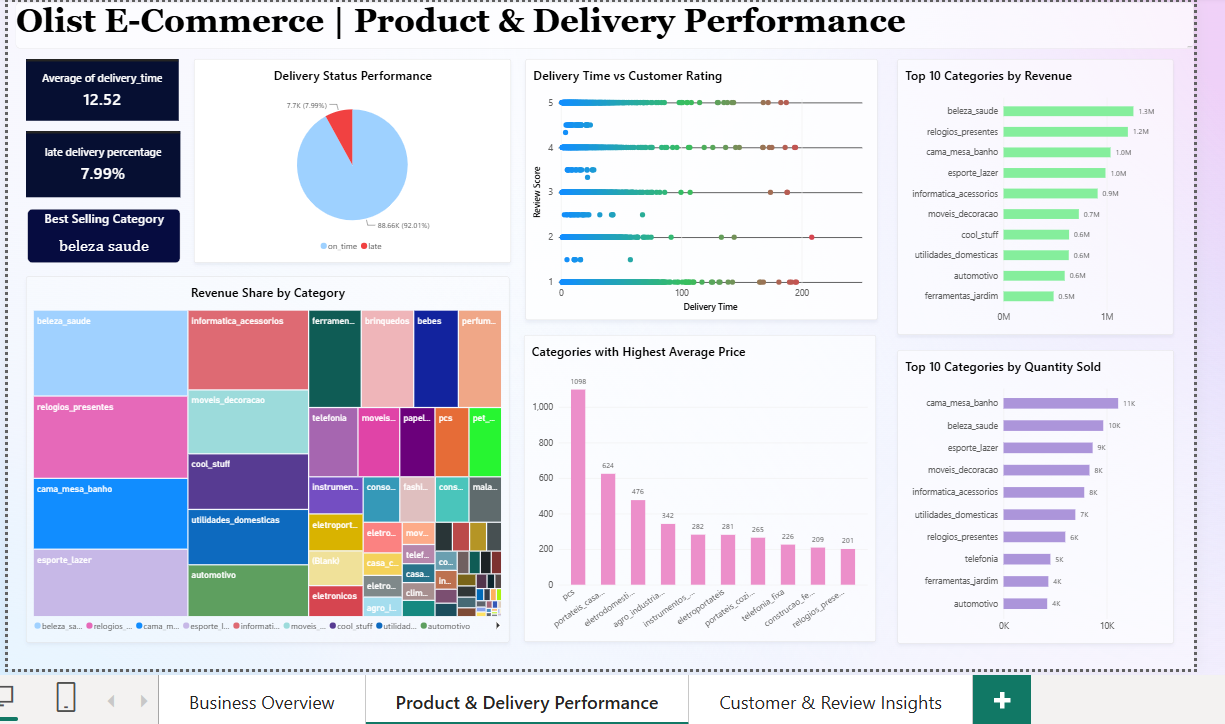

The page's visual inventory and layout, read from the dashboard file:
{"tool":"powerbi","page":{"name":"Product & Delivery Performance","canvas":[1920,1080],"ordinal":1},"visuals":[{"type":"cardVisual","fields":{"Data":["Avg(public delivery_analysis.delivery_time)"]},"box":[30,92.5,247.5,100],"z":0},{"type":"cardVisual","fields":{"Data":["public customer_analysis.late delivery percentage"]},"box":[30,210,250,107.5],"z":1000},{"type":"textbox","title":"Best Selling Category","box":[32.5,335,247.5,87.5],"z":2000},{"type":"clusteredBarChart","title":"Top 10 Categories by Revenue","fields":{"Category":["public product_analysis.product_category_name"],"Y":["Sum(public product_analysis.revenue)"]},"box":[1440,93.3,446.7,446.7],"z":3000},{"type":"clusteredBarChart","title":"Top 10 Categories by Quantity Sold","fields":{"Category":["public product_analysis.product_category_name"],"Y":["Sum(public product_analysis.quantity_sold)"]},"box":[1440,562.5,447.5,475],"z":4000},{"type":"clusteredColumnChart","title":"Categories with Highest Average Price","fields":{"Category":["public product_analysis.product_category_name"],"Y":["Sum(public product_analysis.average_price)"]},"box":[836.7,540,570,496.7],"z":5000},{"type":"treemap","title":"Revenue Share by Category","fields":{"Group":["public product_analysis.product_category_name"],"Values":["Sum(public product_analysis.revenue)"]},"box":[30,445,782.5,592.5],"z":6000},{"type":"scatterChart","title":"Delivery Time vs Customer Rating","fields":{"Category":["public delivery_analysis.order_id"],"X":["Avg(public delivery_analysis.delivery_time)"],"Y":["Avg(public delivery_analysis.review_score)"]},"box":[837.5,92.5,570,422.5],"z":7000},{"type":"pieChart","title":"Delivery Status Performance","fields":{"Category":["public delivery_analysis.delivery_status"],"Y":["CountNonNull(public delivery_analysis.order_id)"]},"box":[300,93.3,513.3,330],"z":8000},{"type":"textbox","title":"Olist E-Commerce | Product & Delivery Performance   ","box":[12.5,0,1907.5,75],"z":9000}]}

Visuals, with their boxes on the page's 1920x1080 design canvas (x1, y1, x2, y2). These are canvas units, not pixel positions in the 1225x724 screenshot, which may show the page scaled, cropped or inside an application window:
cardVisual - Avg(public delivery_analysis.delivery_time): locate(30, 92, 278, 192)
cardVisual - public customer_analysis.late delivery percentage: locate(30, 210, 280, 318)
"Best Selling Category" textbox: locate(32, 335, 280, 422)
"Top 10 Categories by Revenue" clusteredBarChart: locate(1440, 93, 1887, 540)
"Top 10 Categories by Quantity Sold" clusteredBarChart: locate(1440, 562, 1888, 1038)
"Categories with Highest Average Price" clusteredColumnChart: locate(837, 540, 1407, 1037)
"Revenue Share by Category" treemap: locate(30, 445, 812, 1038)
"Delivery Time vs Customer Rating" scatterChart: locate(838, 92, 1408, 515)
"Delivery Status Performance" pieChart: locate(300, 93, 813, 423)
"Olist E-Commerce | Product & Delivery Performance   " textbox: locate(12, 0, 1920, 75)
